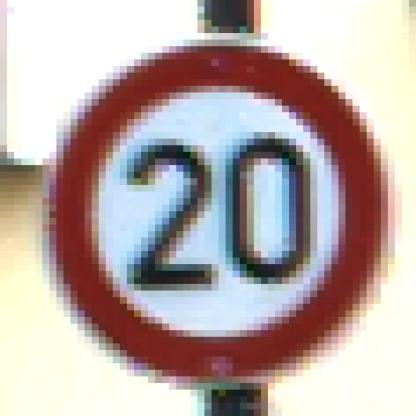Speed Limit 20: (50, 46, 388, 382)
